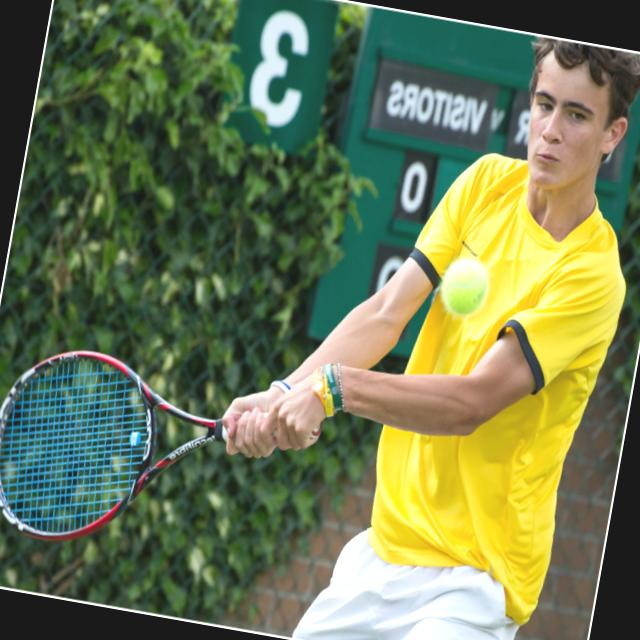Tennis Ball: (439, 252, 495, 318)
